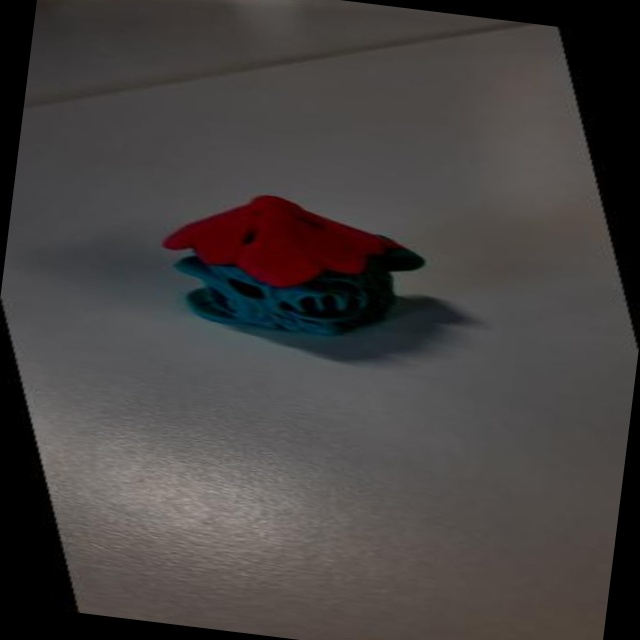House: (104, 148, 533, 397)
